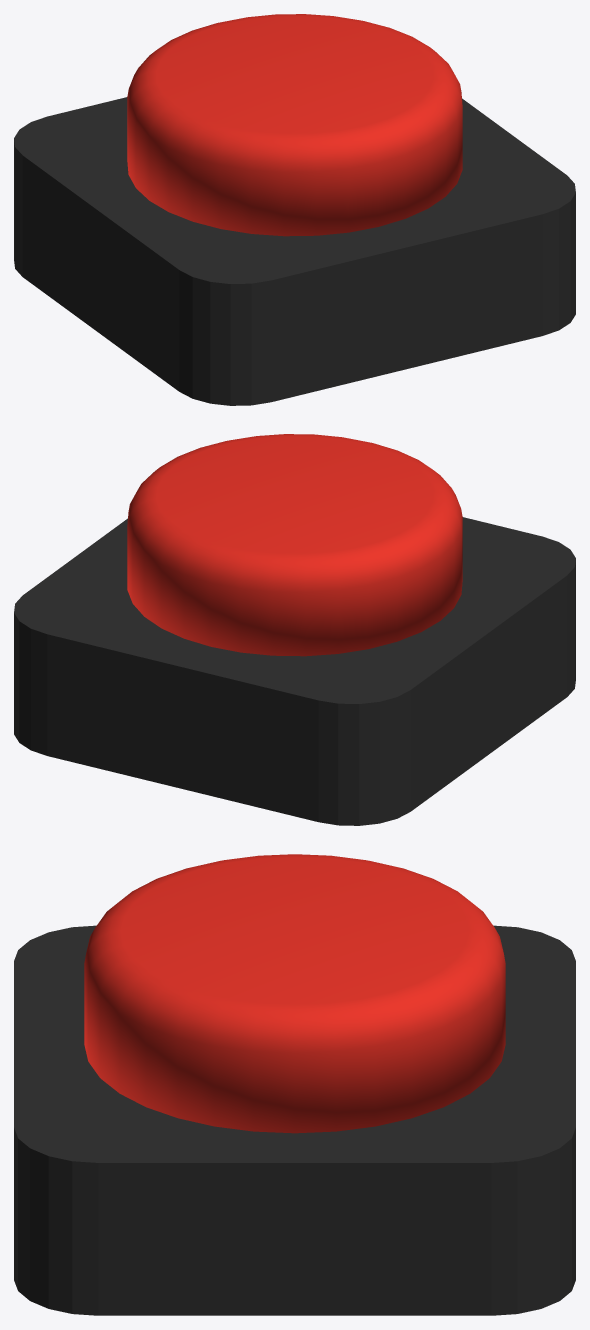
File: Button.fbx
The picture shows the model from 3 angles, top to bottom: view 1: azimuth 30°, elevation 25°; view 2: azimuth 150°, elevation 25°; view 3: azimuth 270°, elevation 25°; orthographic projection. The views are drawn at different scales.
Visible parts, largest first — view 1: Cube, Cylinder; view 2: Cube, Cylinder; view 3: Cube, Cylinder.
Boxes of the visible parts, x1,y1,x2,y2 form: Cube: (14, 97, 575, 405); Cylinder: (127, 14, 462, 236); Cube: (14, 517, 575, 825); Cylinder: (127, 434, 462, 656); Cube: (14, 925, 575, 1315); Cylinder: (84, 854, 505, 1133).
Bounding box in the file's own units: 200 × 105 × 200.
